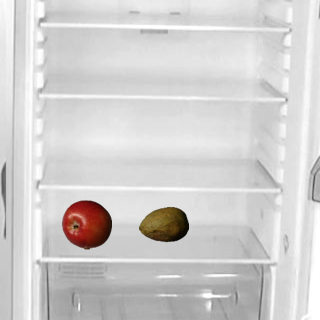Apple Braeburn: (61, 199, 111, 249)
Papaya: (138, 199, 188, 249)
